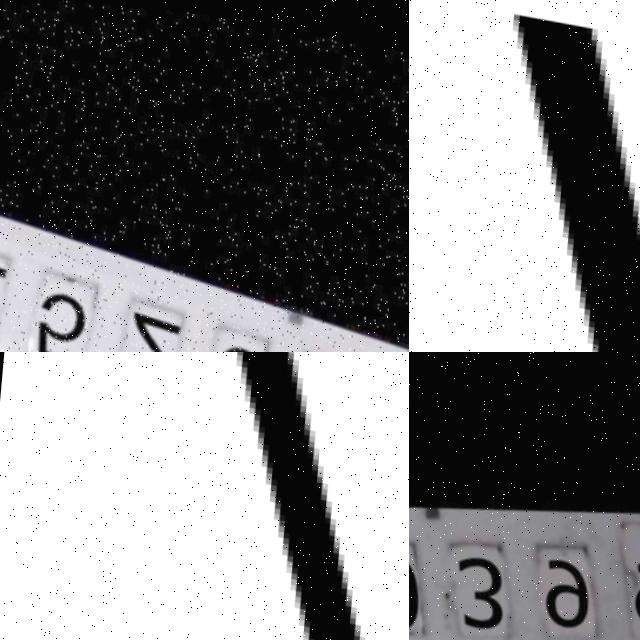0: (186, 315, 275, 352), (409, 531, 429, 640)
2: (101, 291, 190, 352)
3: (440, 529, 515, 640)
5: (9, 264, 99, 352)
9: (526, 532, 598, 636), (616, 533, 640, 630)
I: (166, 352, 409, 640)
L: (454, 0, 640, 352)
